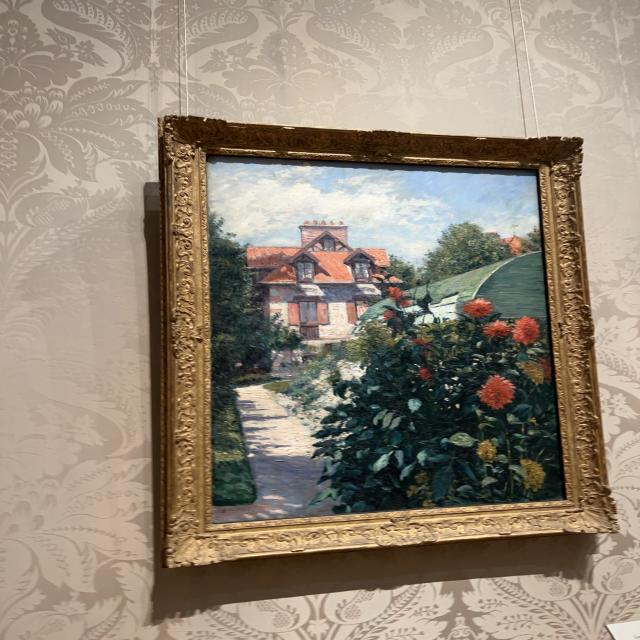summer: (210, 164, 560, 520)
